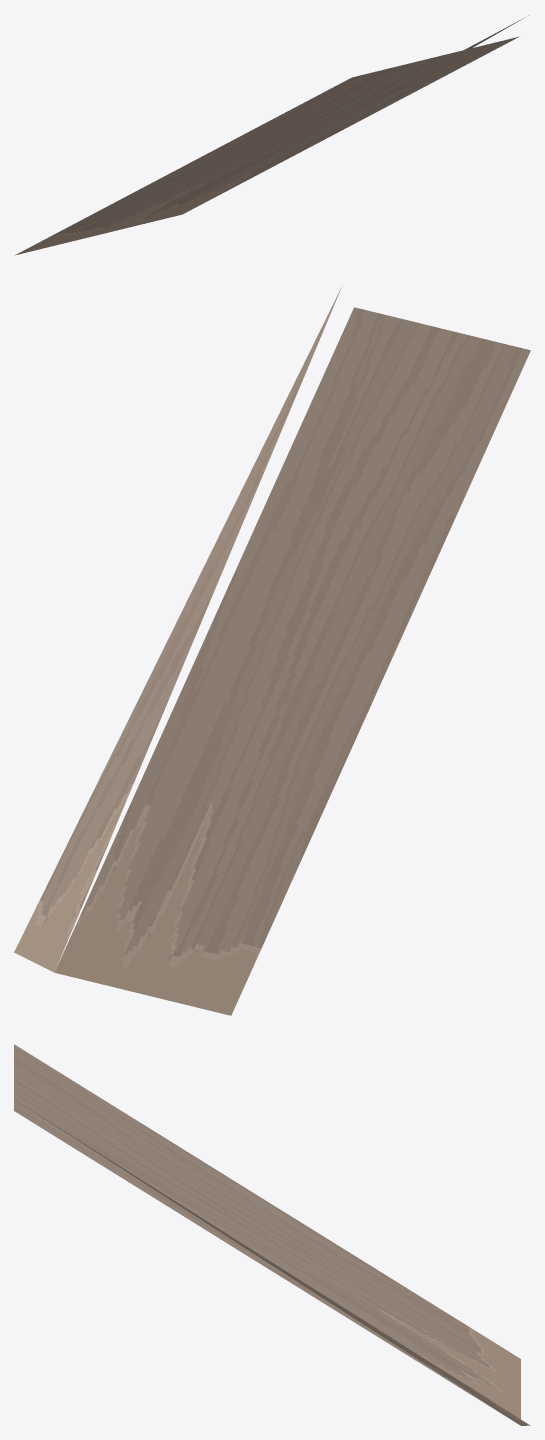
Rendered from kd_stage_135ded_4_52_bounded_piece_2.glb.
3 renders of one model, top to bottom at view 1: azimuth 30°, elevation 25°; view 2: azimuth 150°, elevation 25°; view 3: azimuth 270°, elevation 25°, orthographic. The views are drawn at different scales.
Parts seen in each view (by area): view 1: kd_stage_135ded_4_52_bounded_piece_2; view 2: kd_stage_135ded_4_52_bounded_piece_2; view 3: kd_stage_135ded_4_52_bounded_piece_2.
Boxes of the visible parts, <box> form: kd_stage_135ded_4_52_bounded_piece_2: <box>15,15,528,255</box>; kd_stage_135ded_4_52_bounded_piece_2: <box>14,287,530,1015</box>; kd_stage_135ded_4_52_bounded_piece_2: <box>14,1044,530,1425</box>.
Size of the model in its own units: 0.2434 by 0.4756 by 0.6534.
1 material, 1 textured.
